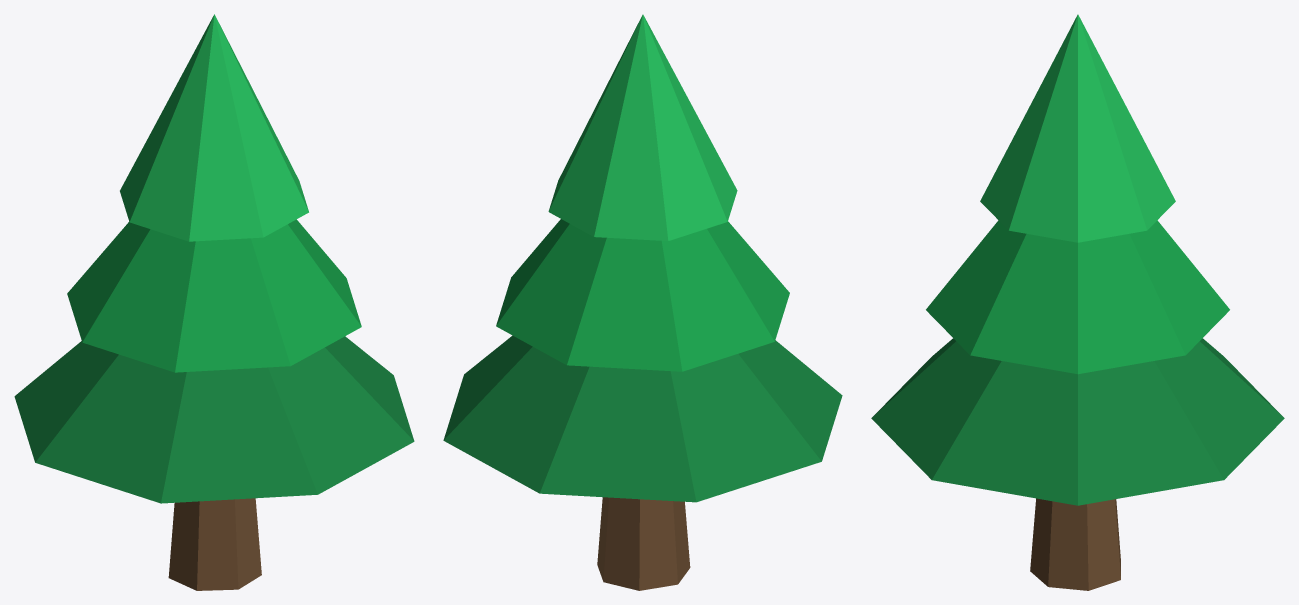
The model's file is low-poly-tree.glb.
3 renders of one model, left to right at view 1: azimuth 30°, elevation 25°; view 2: azimuth 150°, elevation 25°; view 3: azimuth 270°, elevation 25°, orthographic.
Parts seen in each view (by area): view 1: Foliage 1, Foliage 2, Foliage 3, Trunk; view 2: Foliage 1, Foliage 2, Foliage 3, Trunk; view 3: Foliage 1, Foliage 2, Foliage 3, Trunk.
Boxes of the visible parts, x1=… form: Foliage 1: x1=14, y1=336, x2=414, y2=503; Foliage 2: x1=67, y1=219, x2=361, y2=372; Foliage 3: x1=120, y1=14, x2=308, y2=241; Trunk: x1=168, y1=498, x2=261, y2=590; Foliage 1: x1=443, y1=335, x2=842, y2=502; Foliage 2: x1=496, y1=219, x2=789, y2=371; Foliage 3: x1=548, y1=14, x2=737, y2=240; Trunk: x1=597, y1=497, x2=690, y2=590; Foliage 1: x1=871, y1=338, x2=1284, y2=505; Foliage 2: x1=926, y1=220, x2=1229, y2=374; Foliage 3: x1=980, y1=14, x2=1175, y2=242; Trunk: x1=1030, y1=498, x2=1120, y2=590.
Size of the model in its own units: 1.9 by 2.83 by 1.9.
